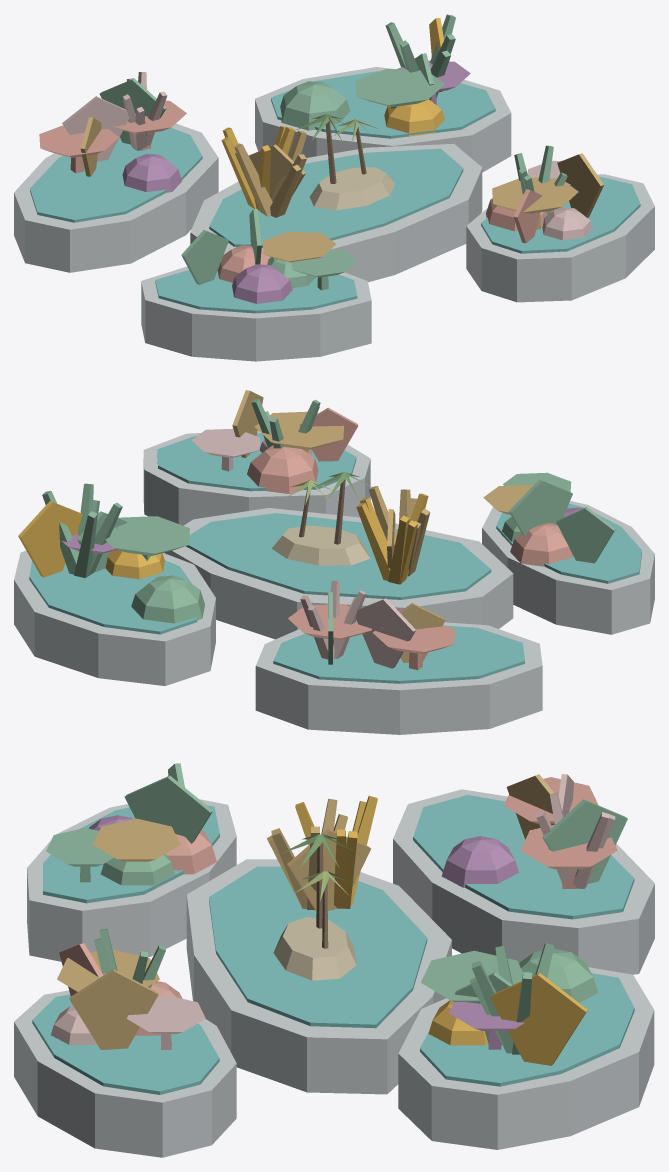
The model's file is the-great-barrier-reef.glb.
3 views of the same model, one above another, from view 1: azimuth 30°, elevation 25°; view 2: azimuth 150°, elevation 25°; view 3: azimuth 270°, elevation 25° (orthographic). The views are drawn at different scales.
Visible parts, largest first — view 1: LOD0; view 2: LOD0; view 3: LOD0.
Part boxes in pixels (x1,y1,x2,y2): LOD0: (14,14,654,361); LOD0: (14,390,654,734); LOD0: (14,763,654,1157).
Size of what is drawn, in the model's own units: 1.51 by 0.37 by 1.31.
